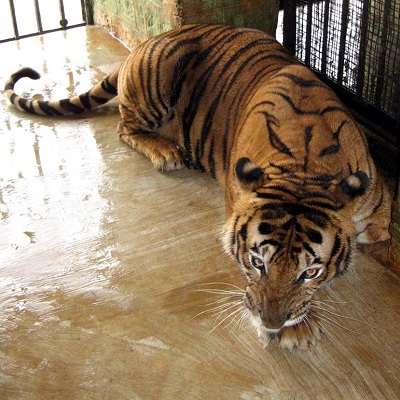Tiger: (5, 16, 400, 357)
